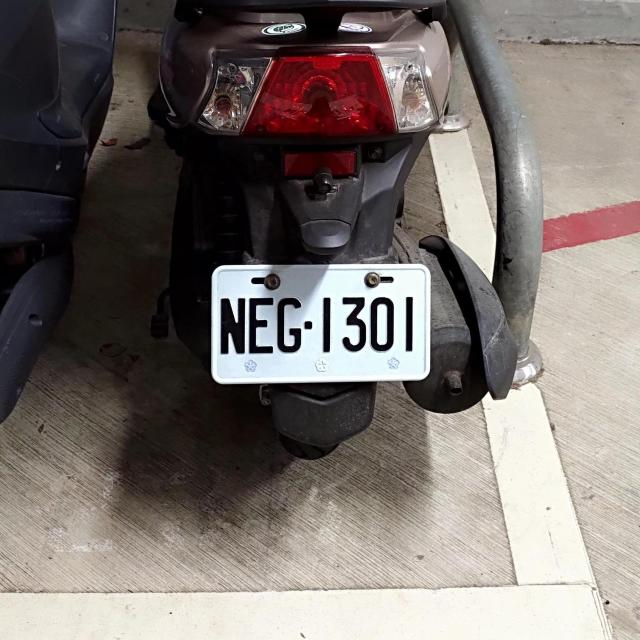W: (208, 260, 430, 384)
